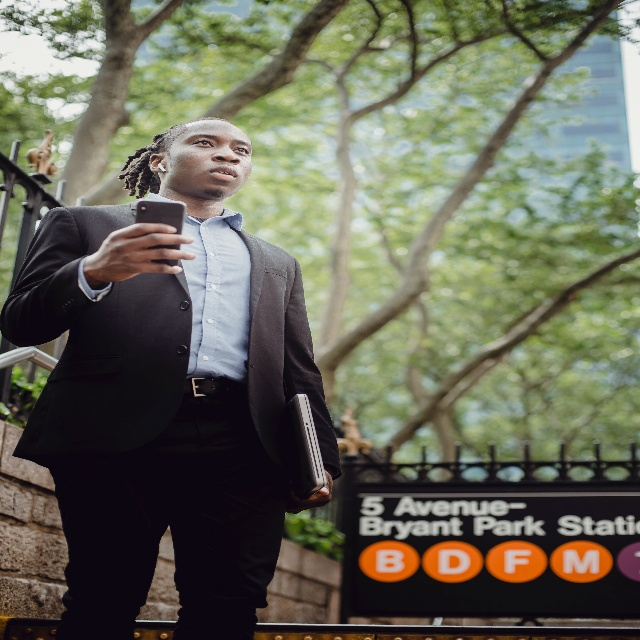Sin_guantes: (100, 231, 195, 280), (286, 471, 333, 513)
